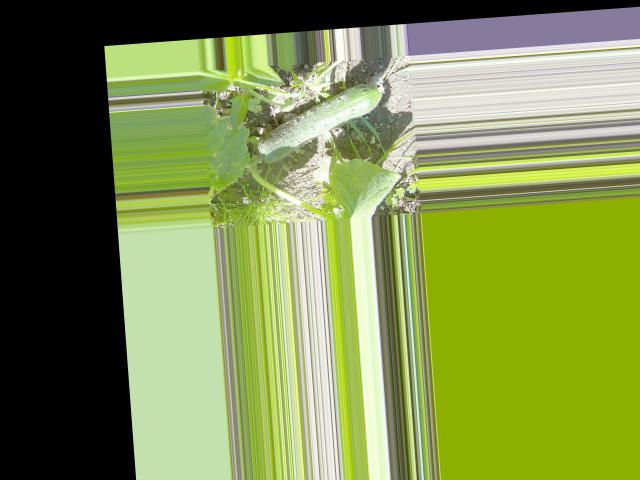cucumber: (251, 82, 388, 164)
